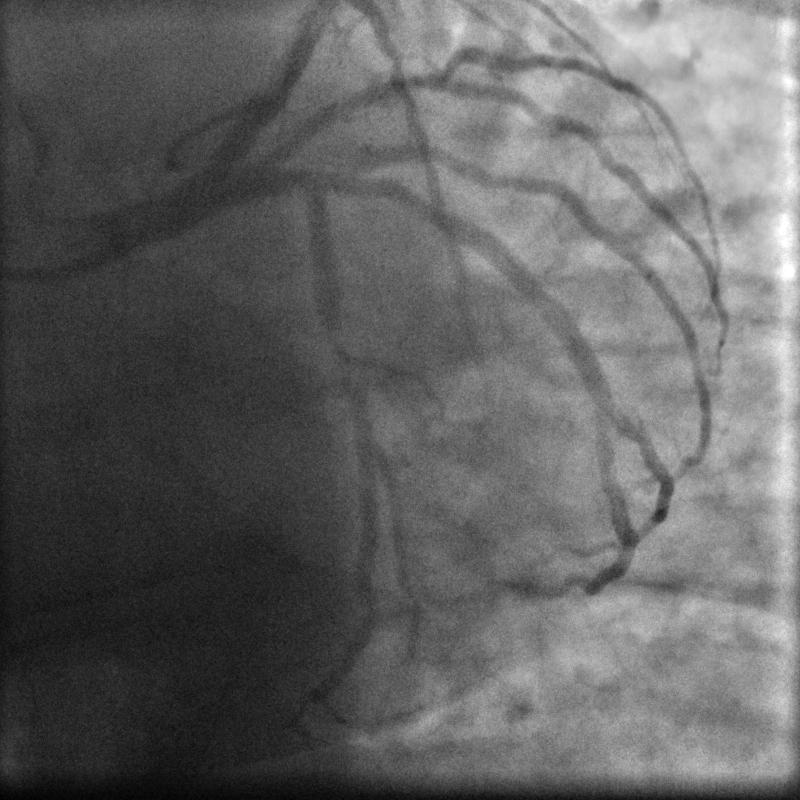Stenosis: (321, 322, 372, 432)
